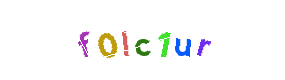0: (82, 0, 162, 80)
1: (102, 0, 182, 80)
C: (102, 0, 182, 80)
F: (67, 0, 147, 80)
L: (95, 0, 175, 80)
R: (143, 0, 223, 80)
U: (123, 0, 203, 80)
